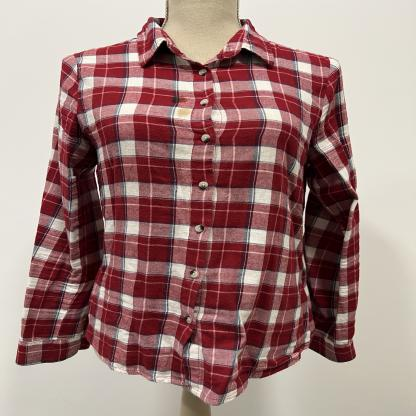stain: (168, 93, 194, 105), (175, 106, 194, 119)
